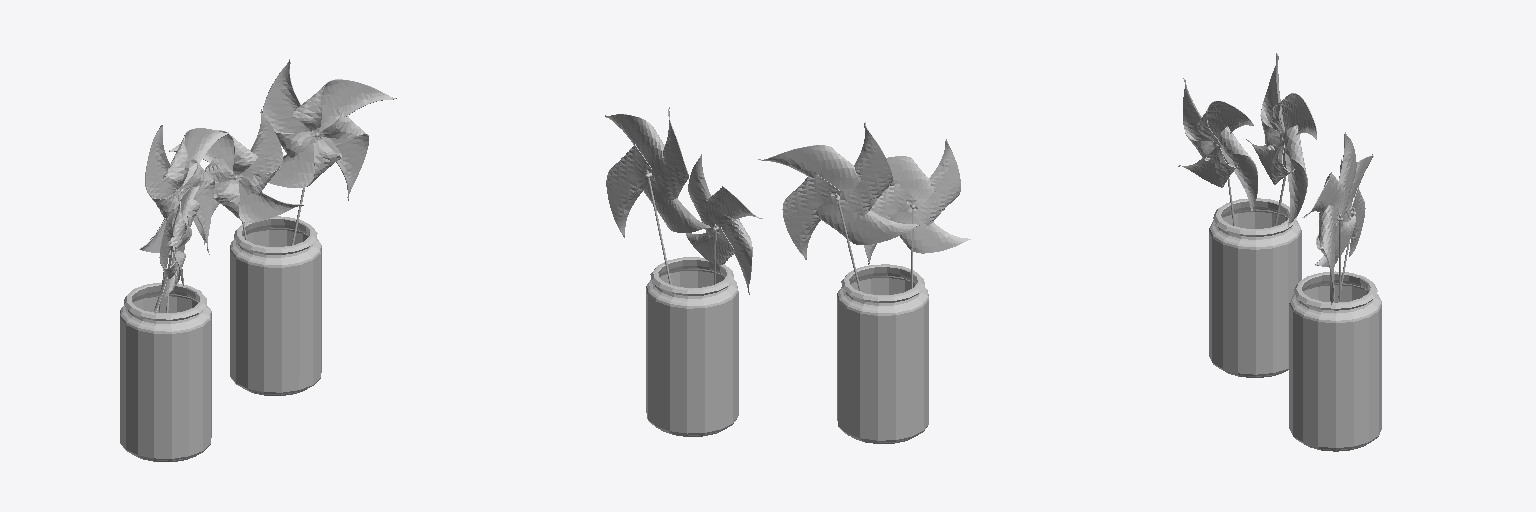
File: windmills.obj
3 renders of one model, left to right at view 1: azimuth 30°, elevation 25°; view 2: azimuth 150°, elevation 25°; view 3: azimuth 270°, elevation 25°, orthographic.
Parts seen in each view (by area): view 1: Windmills27, Windmills28, Windmills052, Windmills051, Windmills050, Windmills12, Windmills047, Windmills16, Windmills041, Windmills036, Windmills049, Windmills042 (+5 smaller); view 2: Windmills27, Windmills28, Windmills036, Windmills042, Windmills041, Windmills039, Windmills12, Windmills043, Windmills23, Windmills052, Windmills051, Windmills044 (+6 smaller); view 3: Windmills27, Windmills28, Windmills042, Windmills045, Windmills044, Windmills036, Windmills041, Windmills23, Windmills043, Windmills12, Windmills039, Windmills051 (+2 smaller).
Part boxes in pixels (x1,y1,x2,y2): Windmills27: (230,216,321,395); Windmills28: (120,283,211,461); Windmills052: (291,79,396,133); Windmills051: (262,59,321,157); Windmills050: (268,137,341,187); Windmills12: (312,108,368,200); Windmills047: (213,172,303,222); Windmills16: (237,109,282,195); Windmills041: (145,125,180,220); Windmills036: (163,128,228,190); Windmills049: (169,130,257,180); Windmills042: (175,159,214,254); Windmills27: (646,257,738,436); Windmills28: (837,264,928,443); Windmills036: (758,145,860,199); Windmills042: (782,174,841,259); Windmills041: (835,122,892,215); Windmills039: (815,193,919,244); Windmills12: (606,144,652,237); Windmills043: (908,139,960,225); Windmills23: (889,202,970,253); Windmills052: (605,114,665,179); Windmills051: (650,107,688,200); Windmills044: (886,156,934,208); Windmills27: (1289,271,1381,451); Windmills28: (1209,198,1301,377); Windmills042: (1283,125,1307,226); Windmills045: (1218,126,1257,210); Windmills044: (1197,101,1253,143); Windmills036: (1271,93,1316,139); Windmills041: (1260,53,1284,149); Windmills23: (1178,147,1237,187); Windmills043: (1183,78,1215,160); Windmills12: (1318,205,1338,304); Windmills039: (1246,139,1294,184); Windmills051: (1336,132,1356,227).
Bounding box in the file's own units: 16.64 × 16.43 × 9.71.